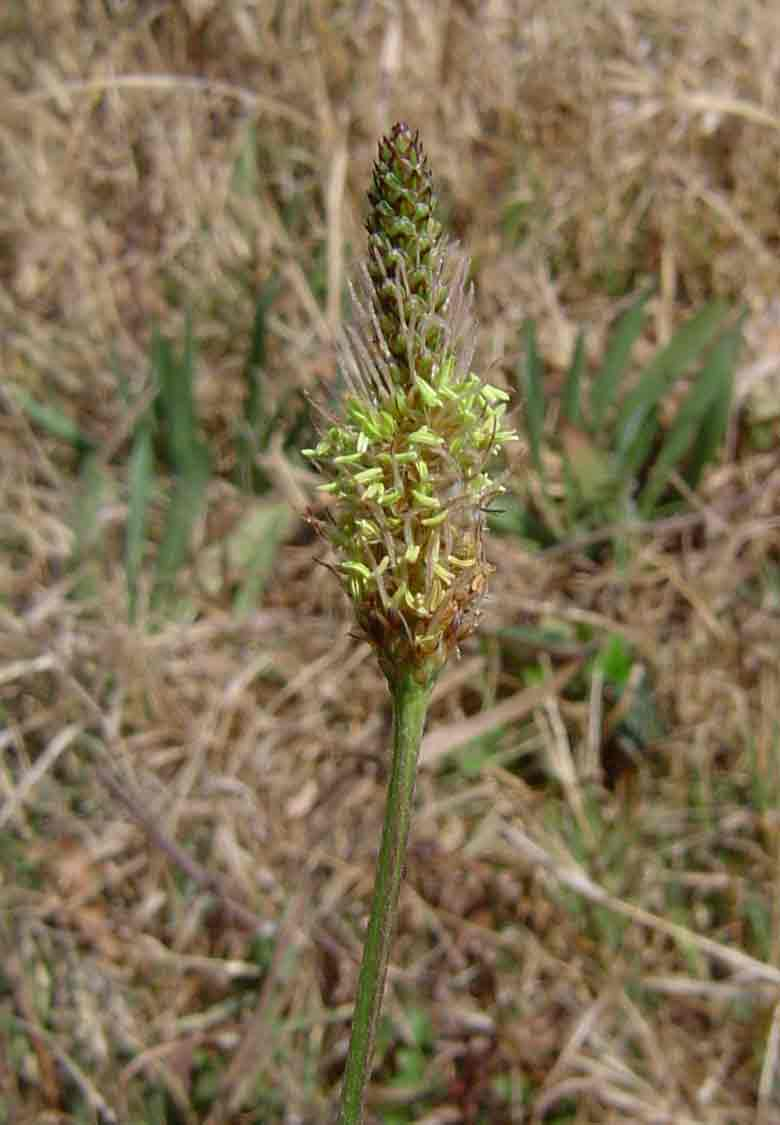buckhorn plantain: (251, 120, 514, 1000)
